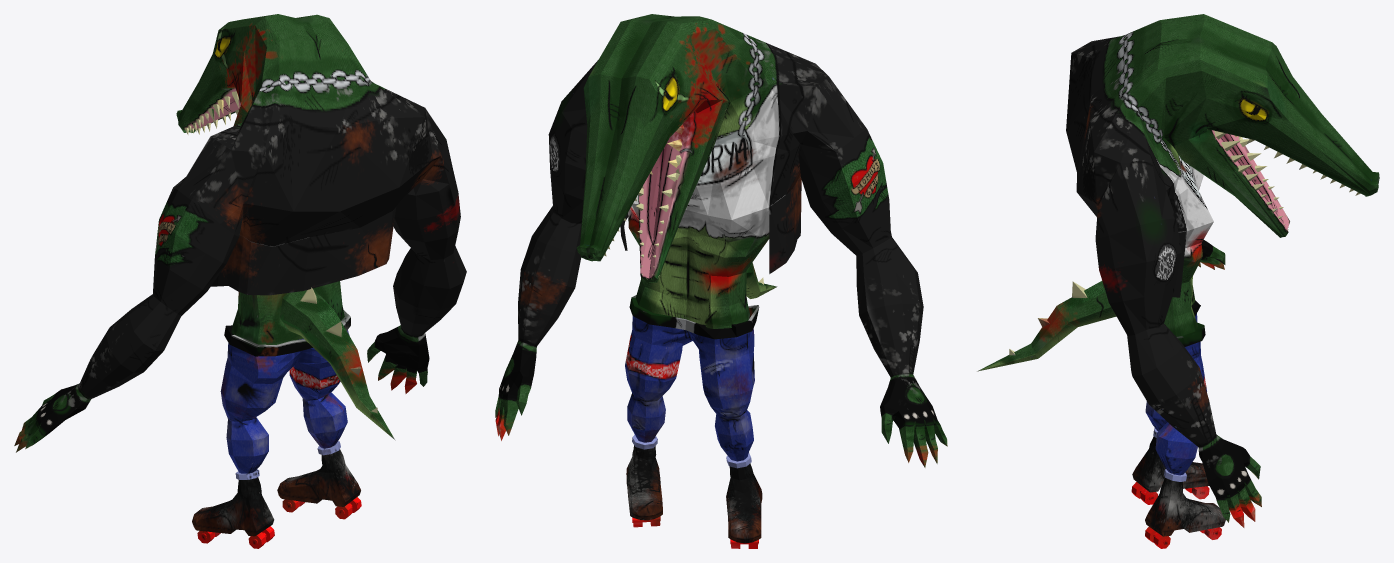
Rendered from cocodrilaBonesSelect_000034.obj.
The picture shows the model from 3 angles, left to right: view 1: azimuth 30°, elevation 25°; view 2: azimuth 150°, elevation 25°; view 3: azimuth 270°, elevation 25°; orthographic projection.
Visible parts, largest first — view 1: Crocodile.002_Cylinder.002; view 2: Crocodile.002_Cylinder.002; view 3: Crocodile.002_Cylinder.002.
Boxes of the visible parts, <box> form: Crocodile.002_Cylinder.002: <box>14,14,466,548</box>; Crocodile.002_Cylinder.002: <box>495,14,947,548</box>; Crocodile.002_Cylinder.002: <box>977,14,1379,548</box>.
Size of the model in its own units: 5.77 by 6.56 by 4.71.
